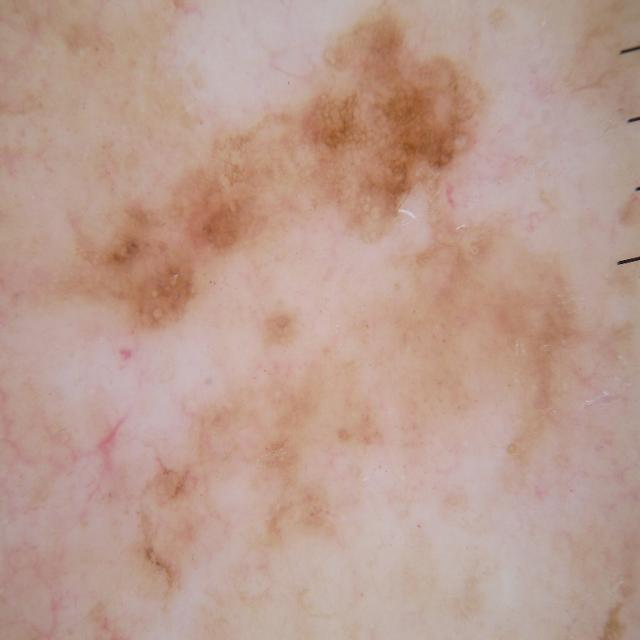Skin-Cancer Melanoma: (57, 15, 640, 584)
